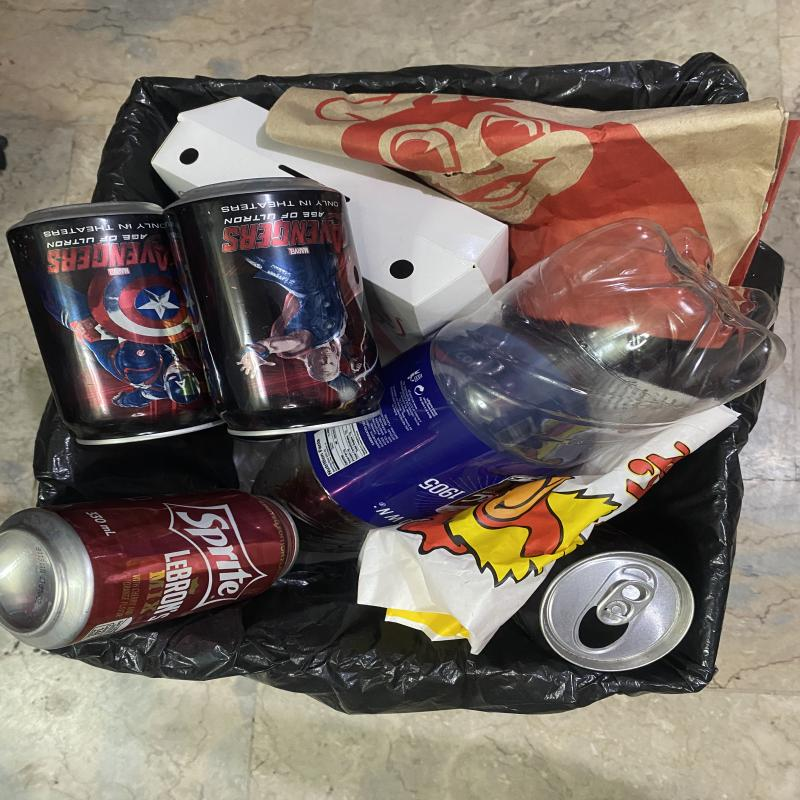aluminum: (165, 177, 383, 436), (6, 201, 223, 445), (0, 488, 298, 649), (539, 551, 694, 671)
cardboard: (151, 97, 510, 357)
paper: (265, 85, 800, 349)
